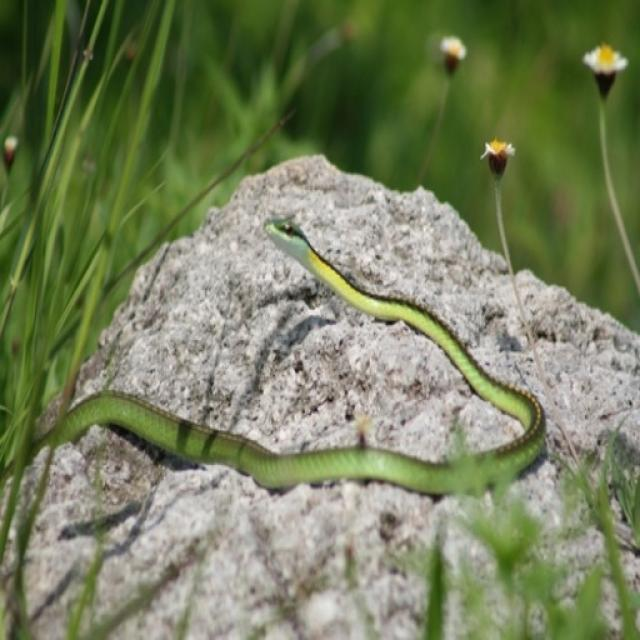snake: (31, 209, 560, 521)
